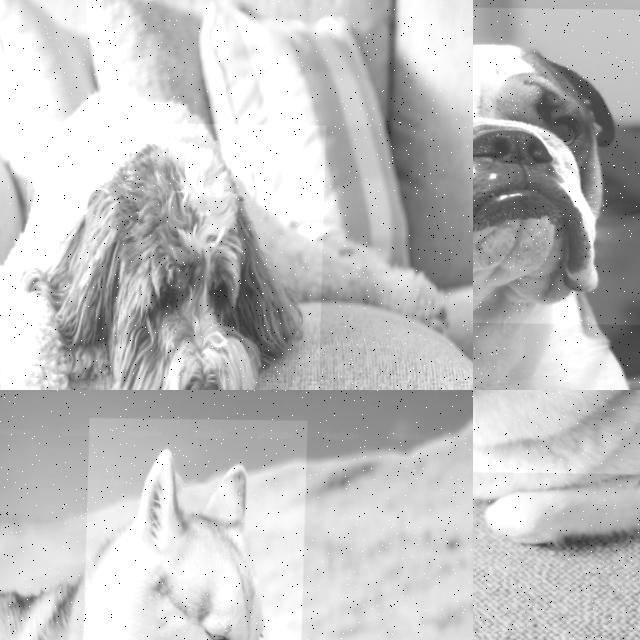bulldog: (473, 0, 640, 335)
husky: (72, 414, 309, 640), (473, 390, 640, 483)
poodle: (16, 116, 327, 390)
